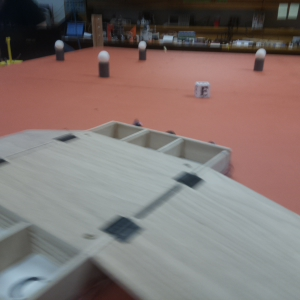blockE: (194, 81, 213, 99)
corner: (90, 12, 104, 48)
obstacle: (94, 50, 113, 79), (252, 48, 266, 72), (53, 38, 66, 62), (137, 40, 147, 60)
slope: (92, 167, 300, 300), (1, 128, 91, 161)
